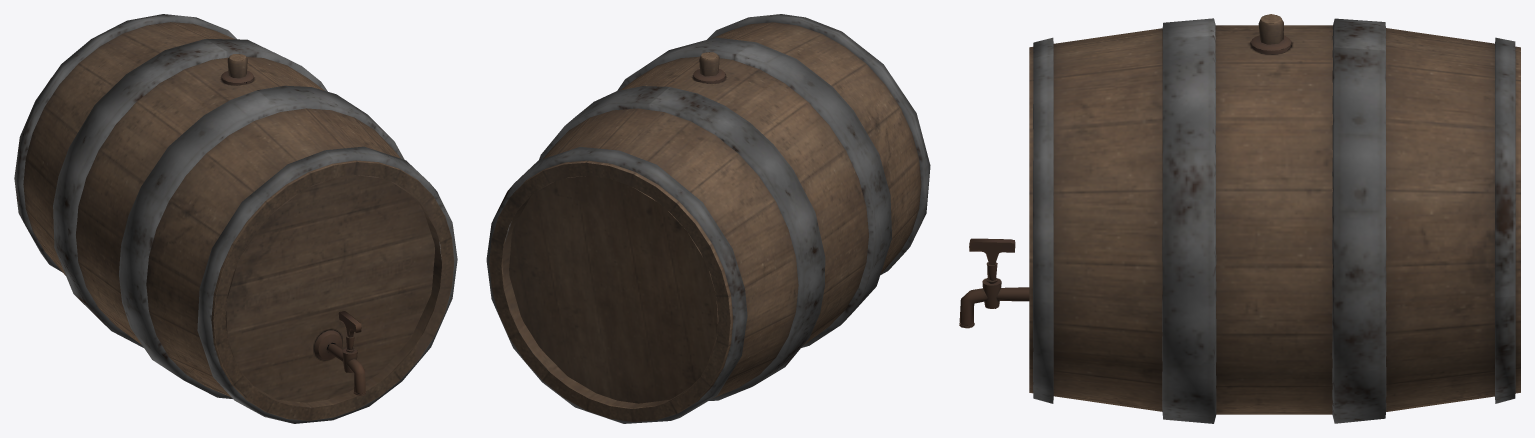
Rendered from tap_cask.glb.
3 views of the same model, side by side, from view 1: azimuth 30°, elevation 25°; view 2: azimuth 150°, elevation 25°; view 3: azimuth 270°, elevation 25° (orthographic). The views are drawn at different scales.
Visible parts, largest first — view 1: Object_16; view 2: Object_16; view 3: Object_16.
Boxes of the visible parts, x1,y1,x2,y2 form: Object_16: (14, 14, 457, 423); Object_16: (486, 14, 930, 423); Object_16: (959, 14, 1520, 423).
Bounding box in the file's own units: 0.7579 × 0.7972 × 1.05.
1 material, 1 textured.
